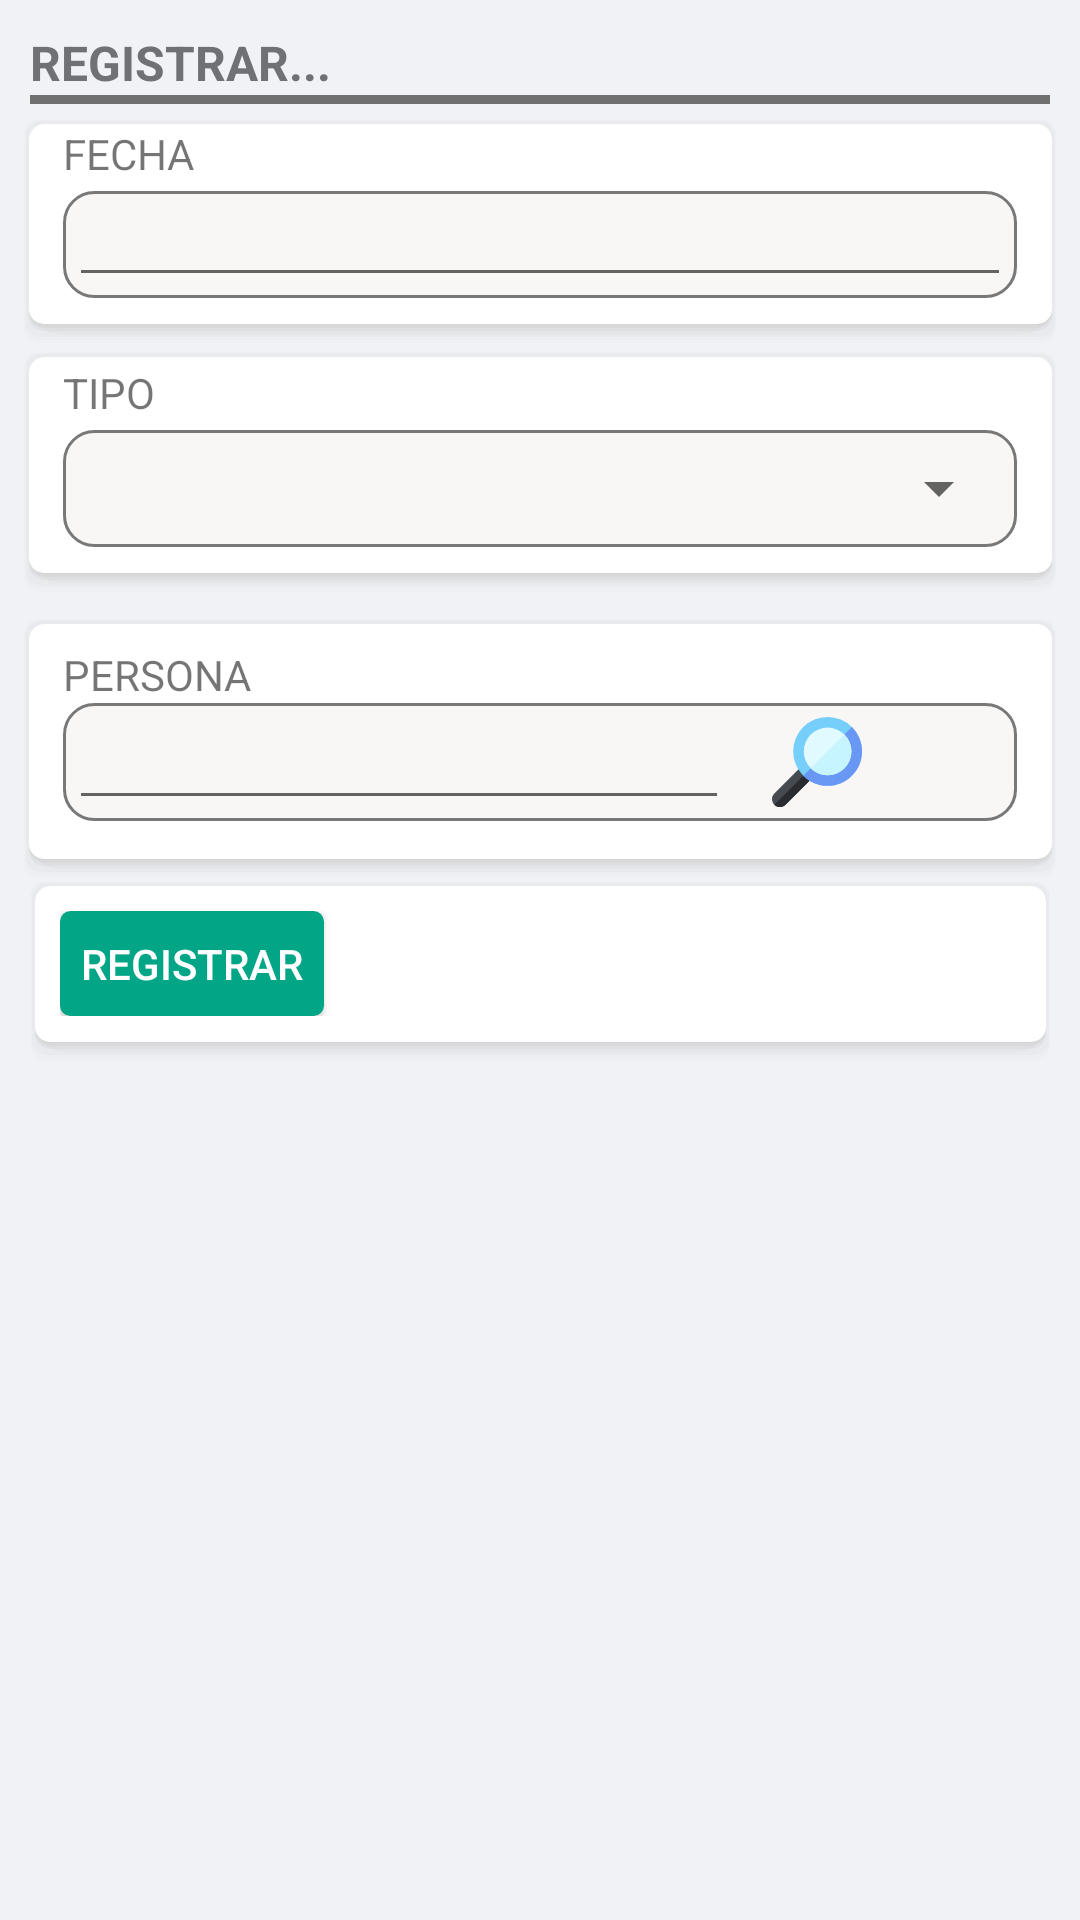

Where icons sit on this 1080 × 1920 app screen, as (x1, y1, x2, y2):
search: (772, 717, 862, 807)
